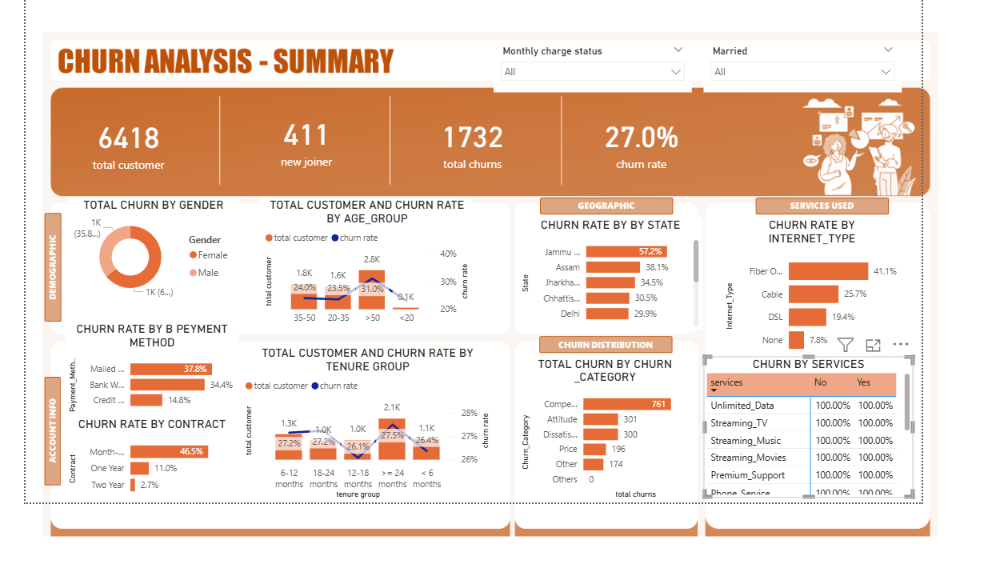

Layout of this report page (visuals, bound fields, positions):
{"tool":"powerbi","page":{"name":"summary","canvas":[1280,720],"ordinal":0},"visuals":[{"type":"card","fields":{"Values":["Table.total customer"]},"box":[61.4,151.4,171.4,108.6],"z":0},{"type":"card","fields":{"Values":["Table.churn rate"]},"box":[792.9,154.3,174.3,101.4],"z":1000},{"type":"card","title":"NEW JOINER","fields":{"Values":["Table.new joiner"]},"box":[304.3,145.7,194.3,111.4],"z":2000},{"type":"card","fields":{"Values":["Table.total churns"]},"box":[540,137.1,197.1,135.7],"z":3000},{"type":"donutChart","title":"TOTAL CHURN BY GENDER","fields":{"Y":["Table.total churns"],"Category":["churn customer.Gender"]},"box":[61.4,284.3,242.9,151.4],"z":4000},{"type":"lineStackedColumnComboChart","title":"TOTAL CUSTOMER AND CHURN RATE BY AGE_GROUP","fields":{"Category":["churn customer.age_group"],"Y":["Table.total customer"],"Y2":["Table.churn rate"]},"box":[337.1,284.3,301.4,190],"z":5000},{"type":"clusteredBarChart","title":"CHURN RATE BY B PEYMENT METHOD","fields":{"Category":["churn customer.Payment_Method"],"Y":["Table.churn rate"]},"box":[57.1,461.4,247.1,135.7],"z":6000},{"type":"clusteredBarChart","title":"CHURN RATE BY CONTRACT","fields":{"Category":["churn customer.Contract"],"Y":["Table.churn rate"]},"box":[57.1,597.1,247.1,122.9],"z":7000},{"type":"lineStackedColumnComboChart","title":"TOTAL CUSTOMER AND CHURN RATE BY TENURE GROUP","fields":{"Category":["churn customer.tenure group"],"Y":["Table.total customer"],"Y2":["Table.churn rate"]},"box":[308.6,495.7,360,224.3],"z":8000},{"type":"clusteredBarChart","title":"CHURN RATE BY BY STATE","fields":{"Category":["churn customer.State"],"Y":["Table.churn rate"]},"box":[704.3,312.9,262.9,161.4],"z":9000},{"type":"clusteredBarChart","title":"TOTAL CHURN BY CHURN _CATEGORY","fields":{"Category":["churn customer.Churn_Category"],"Y":["Table.total churns"]},"box":[704.3,511.4,247.1,208.6],"z":10000},{"type":"clusteredBarChart","title":"CHURN RATE BY INTERNET_TYPE ","fields":{"Category":["churn customer.Internet_Type"],"Y":["Table.churn rate"]},"box":[995.7,312.9,255.7,217.1],"z":11000},{"type":"pivotTable","title":"CHURN BY SERVICES","fields":{"Rows":["product services.services"],"Values":["Sum(churn customer.Churn Status)"],"Columns":["product services.status"]},"box":[968.6,511.4,300,202.9],"z":12000},{"type":"slicer","fields":{"Values":["churn customer.Monthly charge status"]},"box":[668.6,61.4,282.9,72.9],"z":13000},{"type":"slicer","fields":{"Values":["churn customer.Married"]},"box":[968.6,61.4,282.9,72.9],"z":14000}]}

Visuals, with their boxes in screenshot pixels (x1, y1, x2, y2), scaled from the page's 1280x720 canvas onto the 992x563 screenshot:
card - Table.total customer: bbox=[48, 118, 180, 203]
card - Table.churn rate: bbox=[614, 121, 750, 200]
"NEW JOINER" card: bbox=[236, 114, 386, 201]
card - Table.total churns: bbox=[418, 107, 571, 213]
"TOTAL CHURN BY GENDER" donutChart: bbox=[48, 222, 236, 341]
"TOTAL CUSTOMER AND CHURN RATE BY AGE_GROUP" lineStackedColumnComboChart: bbox=[261, 222, 495, 371]
"CHURN RATE BY B PEYMENT METHOD" clusteredBarChart: bbox=[44, 361, 236, 467]
"CHURN RATE BY CONTRACT" clusteredBarChart: bbox=[44, 467, 236, 562]
"TOTAL CUSTOMER AND CHURN RATE BY TENURE GROUP" lineStackedColumnComboChart: bbox=[239, 388, 518, 562]
"CHURN RATE BY BY STATE" clusteredBarChart: bbox=[546, 245, 750, 371]
"TOTAL CHURN BY CHURN _CATEGORY" clusteredBarChart: bbox=[546, 400, 737, 562]
"CHURN RATE BY INTERNET_TYPE " clusteredBarChart: bbox=[772, 245, 970, 414]
"CHURN BY SERVICES" pivotTable: bbox=[751, 400, 983, 559]
slicer - churn customer.Monthly charge status: bbox=[518, 48, 737, 105]
slicer - churn customer.Married: bbox=[751, 48, 970, 105]
